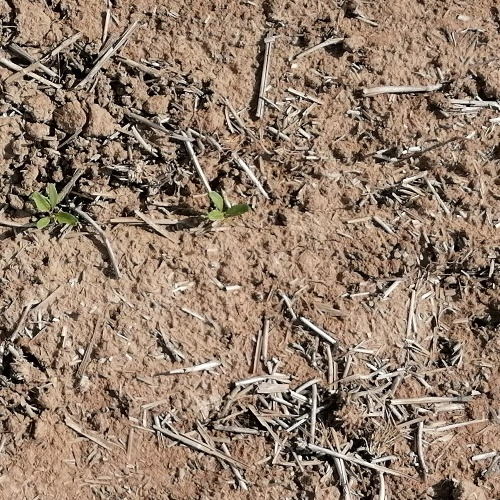beet: (30, 181, 82, 229), (207, 190, 247, 222)
